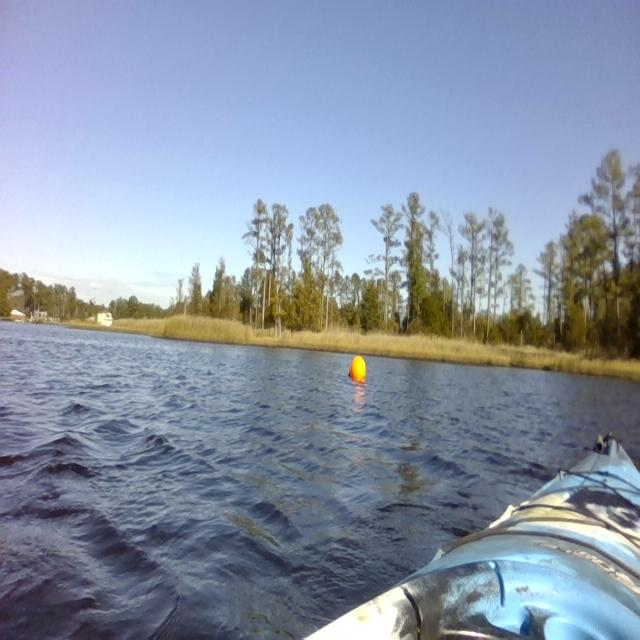Buoy: (346, 344, 371, 394)
